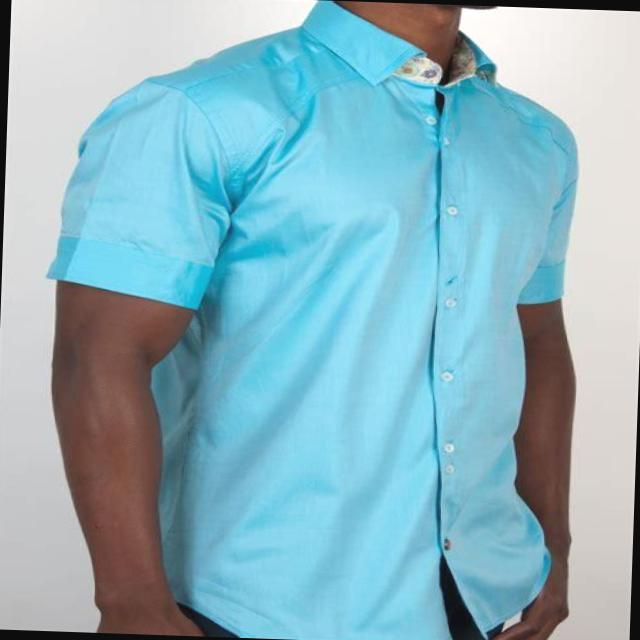shirt: (31, 0, 587, 640)
